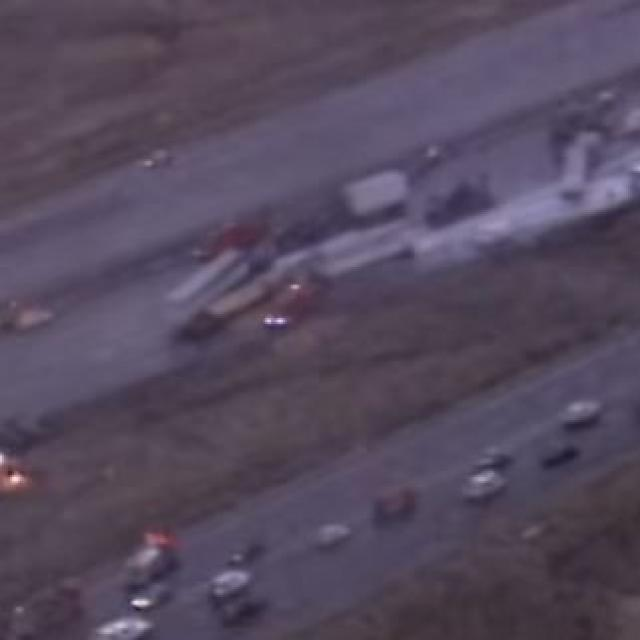traffic_incident: (154, 96, 636, 334)
